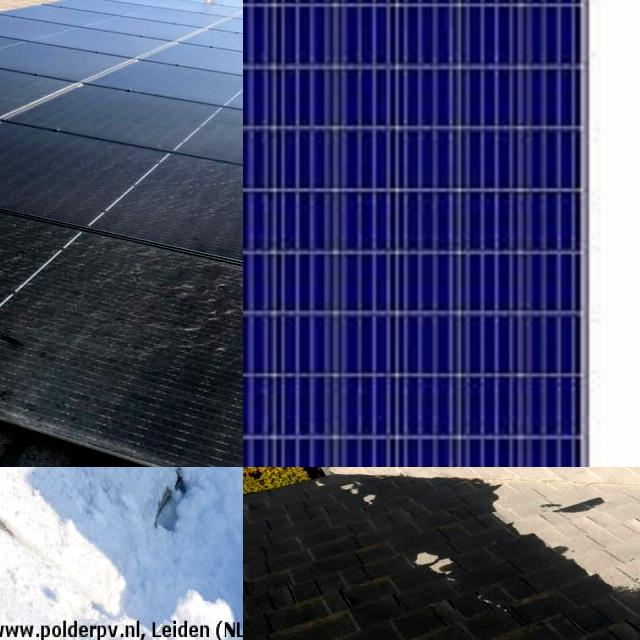crack: (243, 0, 640, 467)
dust: (95, 250, 243, 383), (484, 467, 640, 530), (0, 295, 81, 411), (0, 202, 105, 285), (353, 467, 496, 526), (134, 164, 243, 231), (394, 467, 502, 534), (278, 467, 407, 517), (143, 407, 243, 467), (243, 467, 325, 509), (384, 467, 542, 482)
panel: (0, 494, 126, 640), (0, 467, 76, 635), (0, 467, 93, 562), (1, 467, 139, 523), (0, 467, 86, 549), (0, 519, 58, 640), (0, 467, 90, 528), (68, 467, 175, 513), (40, 467, 139, 503), (154, 467, 234, 509), (0, 467, 67, 500), (0, 467, 45, 503)
